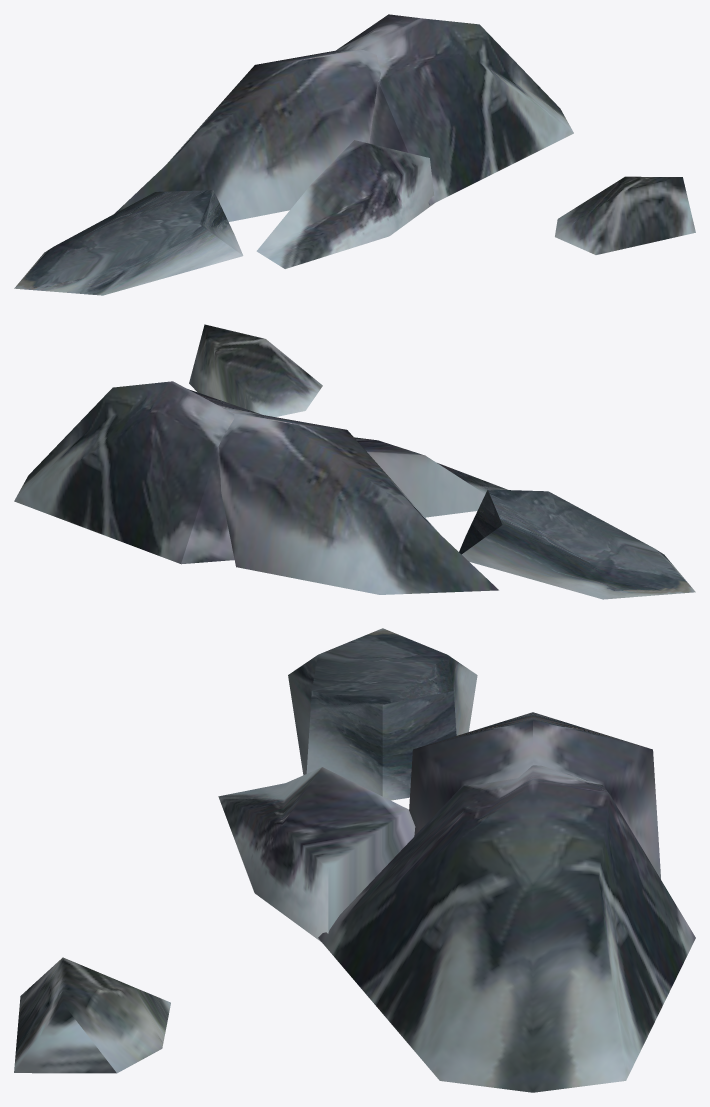
File: yw_anxizhidi_luanshi04.FBX
The picture shows the model from 3 angles, top to bottom: view 1: azimuth 30°, elevation 25°; view 2: azimuth 150°, elevation 25°; view 3: azimuth 270°, elevation 25°; orthographic projection. The views are drawn at different scales.
Visible parts, largest first — view 1: yw_anxizhidi_luanshi04; view 2: yw_anxizhidi_luanshi04; view 3: yw_anxizhidi_luanshi04.
Part boxes in pixels (<box>): yw_anxizhidi_luanshi04: <box>14,14,695,295</box>; yw_anxizhidi_luanshi04: <box>14,324,695,599</box>; yw_anxizhidi_luanshi04: <box>14,628,695,1092</box>.
Size of the model in its own units: 692 by 140 by 427.
